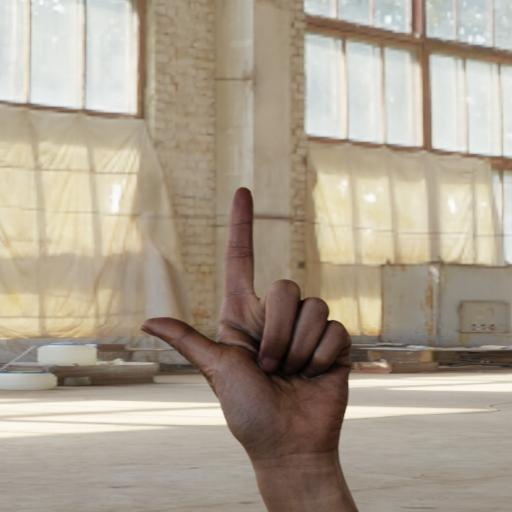L: (121, 166, 400, 502)
